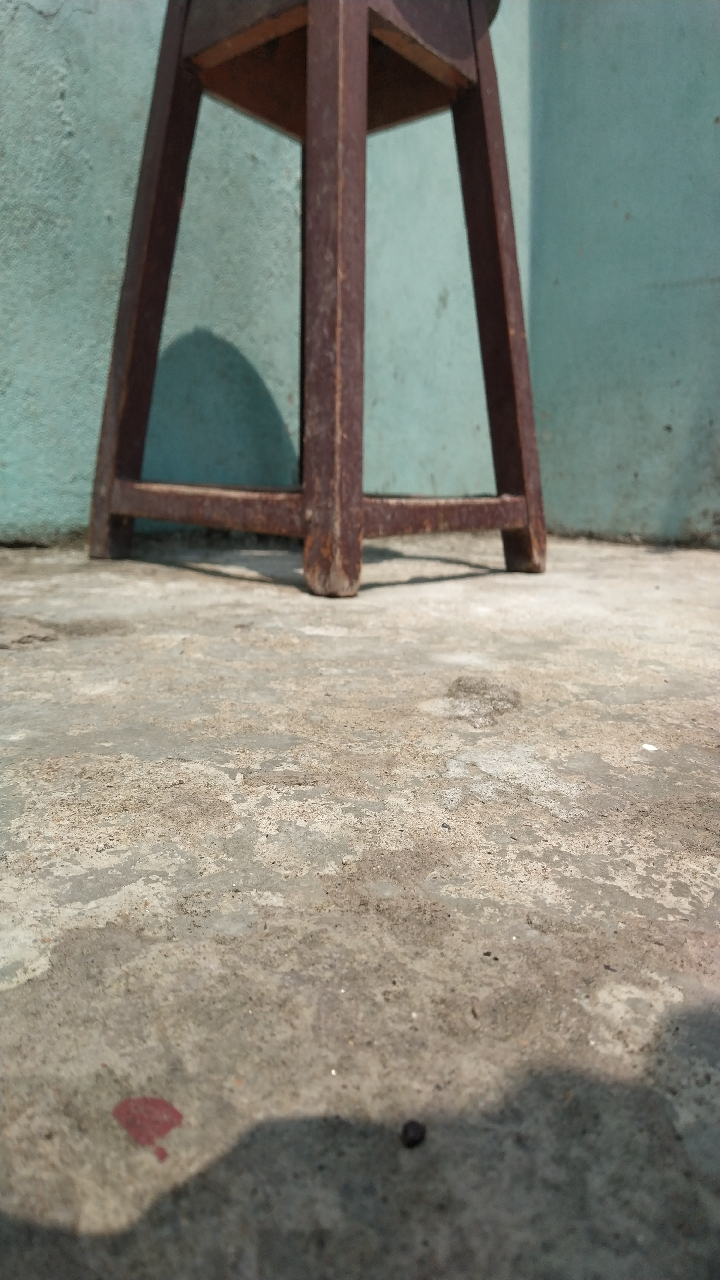Furnitures: (86, 137, 571, 610)
